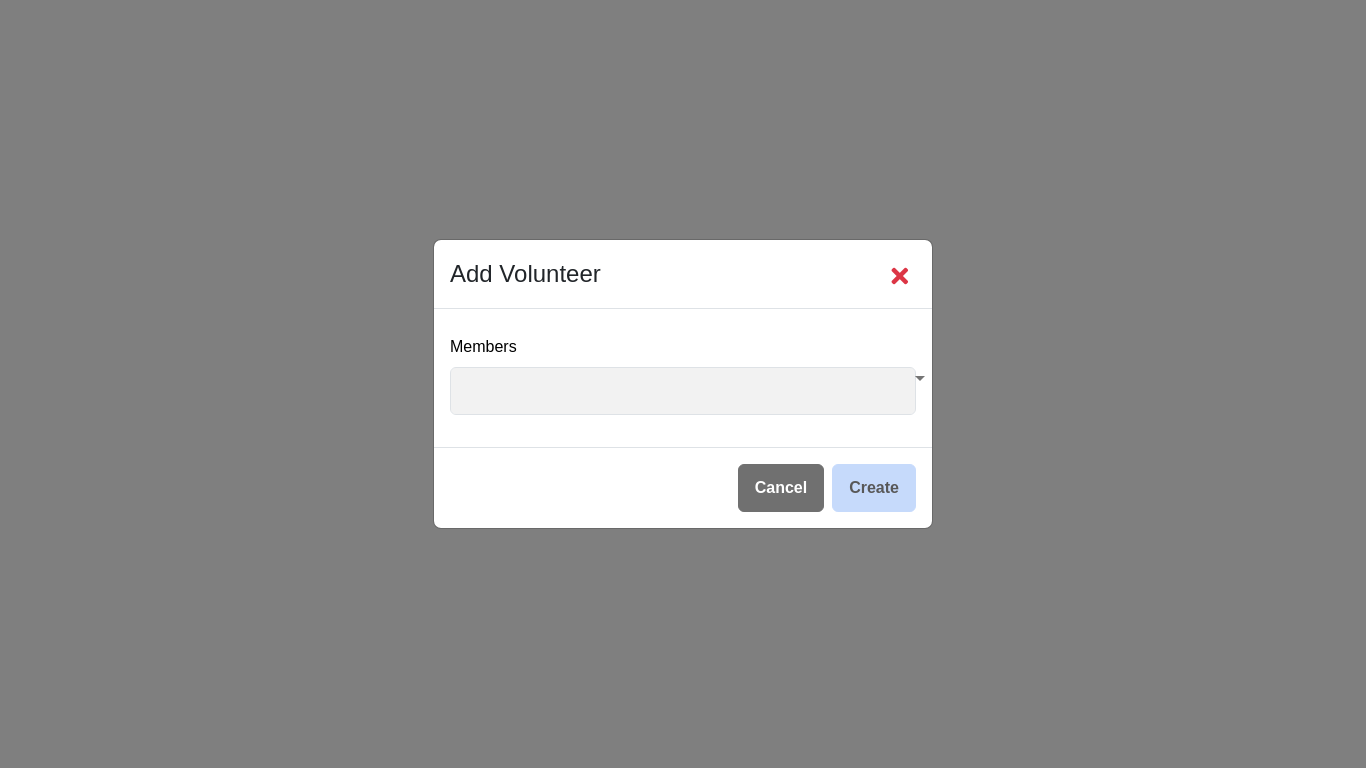
Scenario: Testing VolunteerCreateModal › should clear userId when member selection is cleared
The image size is (1366, 768).
Check: the button with test id "modal-submit-btn" is disabled, box x1=832 y1=464 x2=916 y2=512
Click the dropdown at (683,391), box x1=450 y1=367 x2=916 y2=415
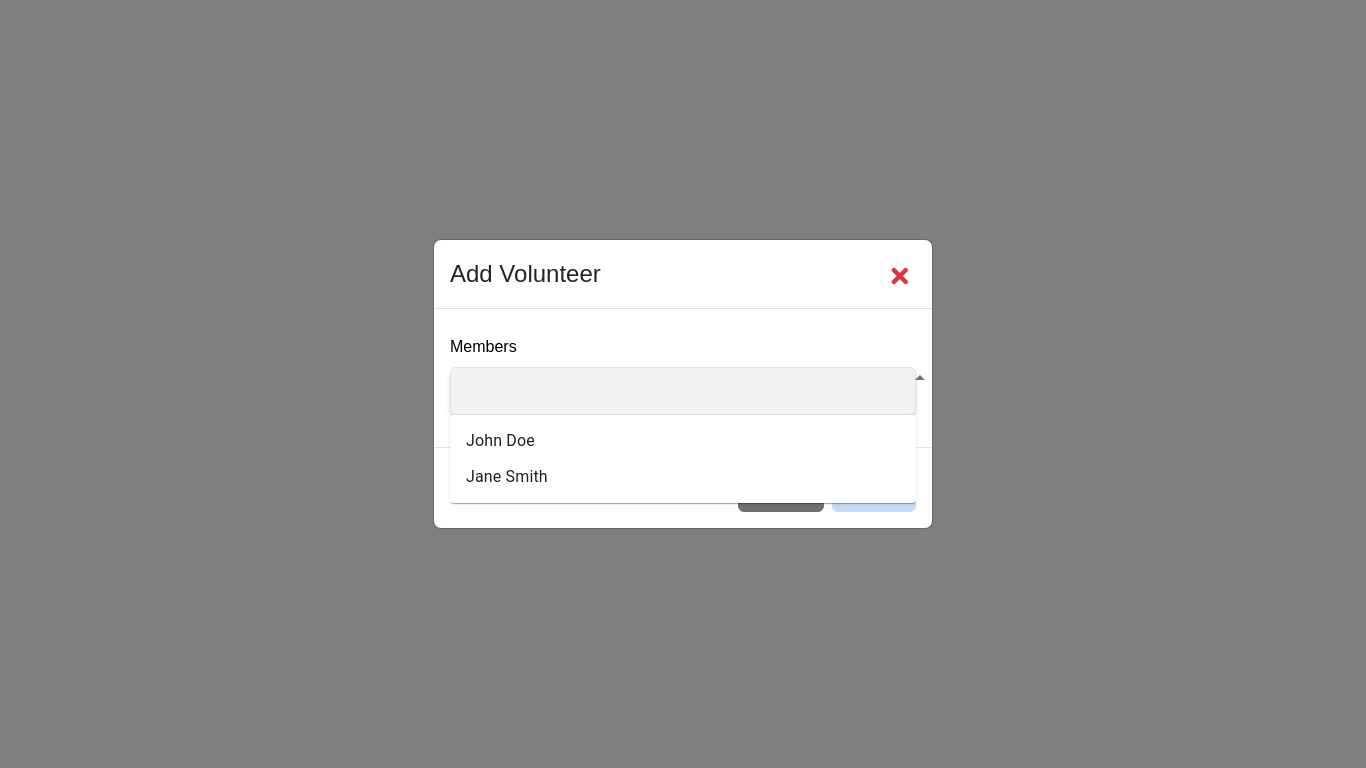
Click the option "John Doe" at (500,440), box x1=466 y1=431 x2=535 y2=450
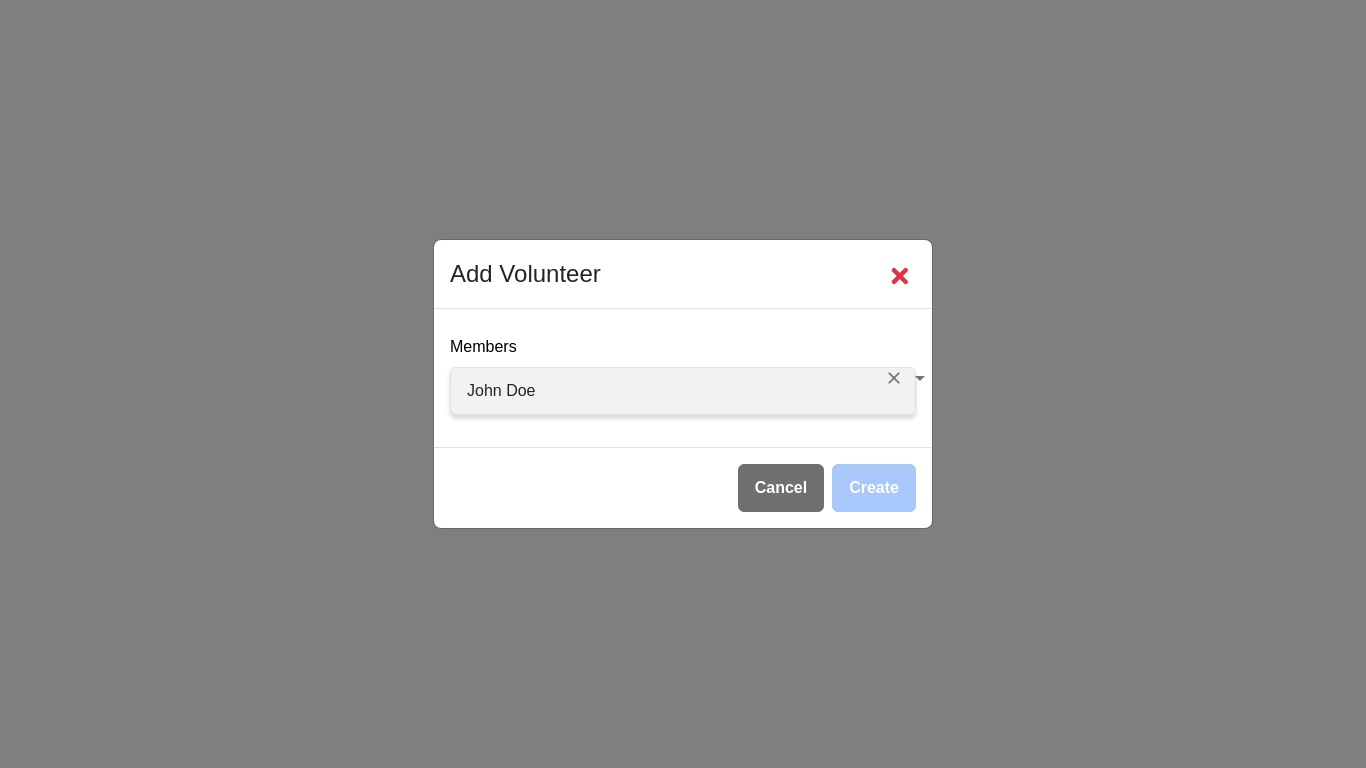
Check: the dropdown holds "John Doe", box x1=450 y1=367 x2=916 y2=415
Check: the button with test id "modal-submit-btn" is enabled, box x1=832 y1=464 x2=916 y2=512
Click the button titled "Clear" at (894,378), box x1=880 y1=364 x2=908 y2=392
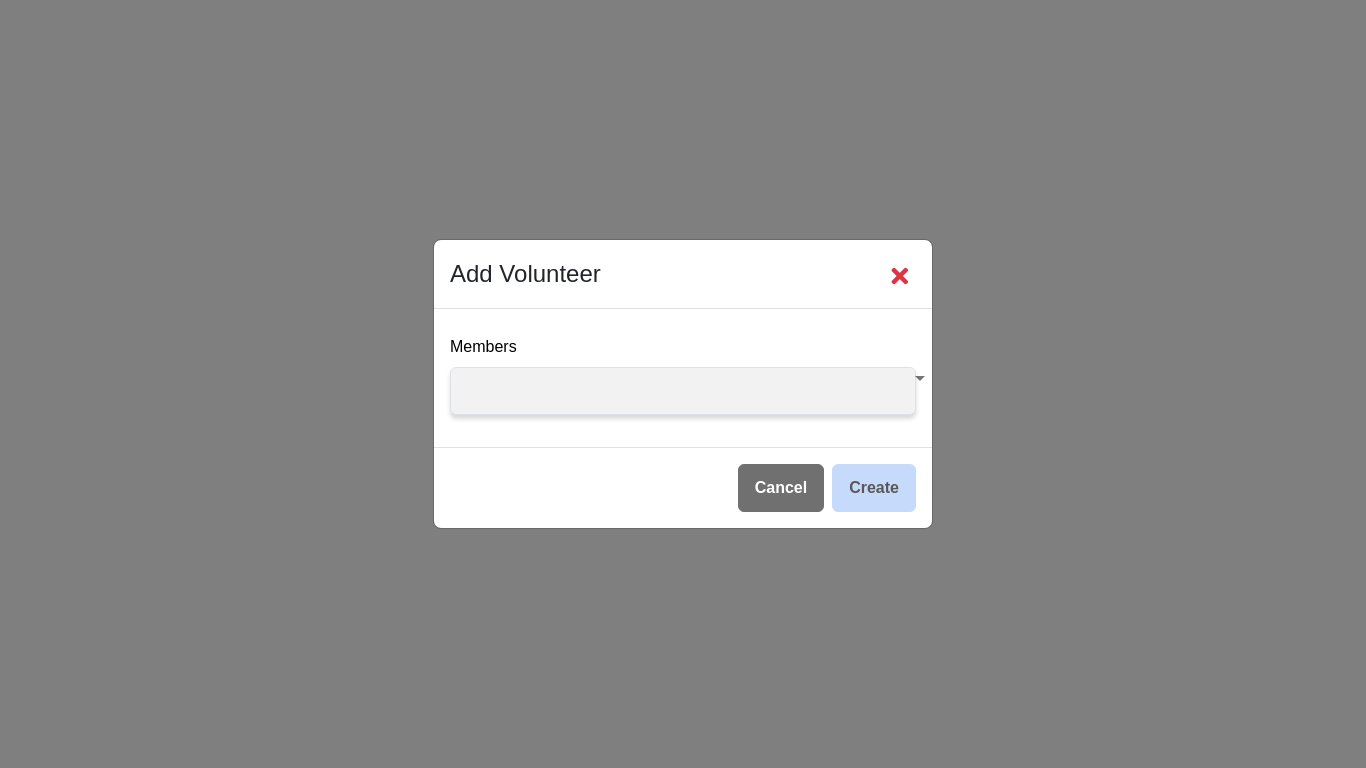
Check: the dropdown is empty, box x1=450 y1=367 x2=916 y2=415
Check: the button with test id "modal-submit-btn" is disabled, box x1=832 y1=464 x2=916 y2=512
